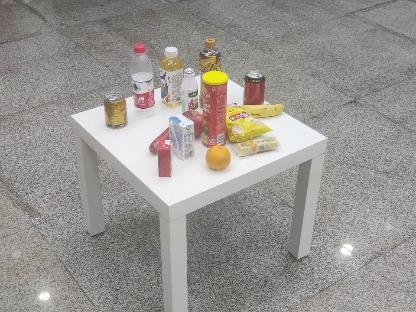Can: (102, 92, 130, 128), (245, 71, 266, 105)
Others: (198, 71, 230, 147), (167, 114, 197, 160), (156, 138, 174, 180)
Plastic Bottle: (124, 41, 160, 119)
